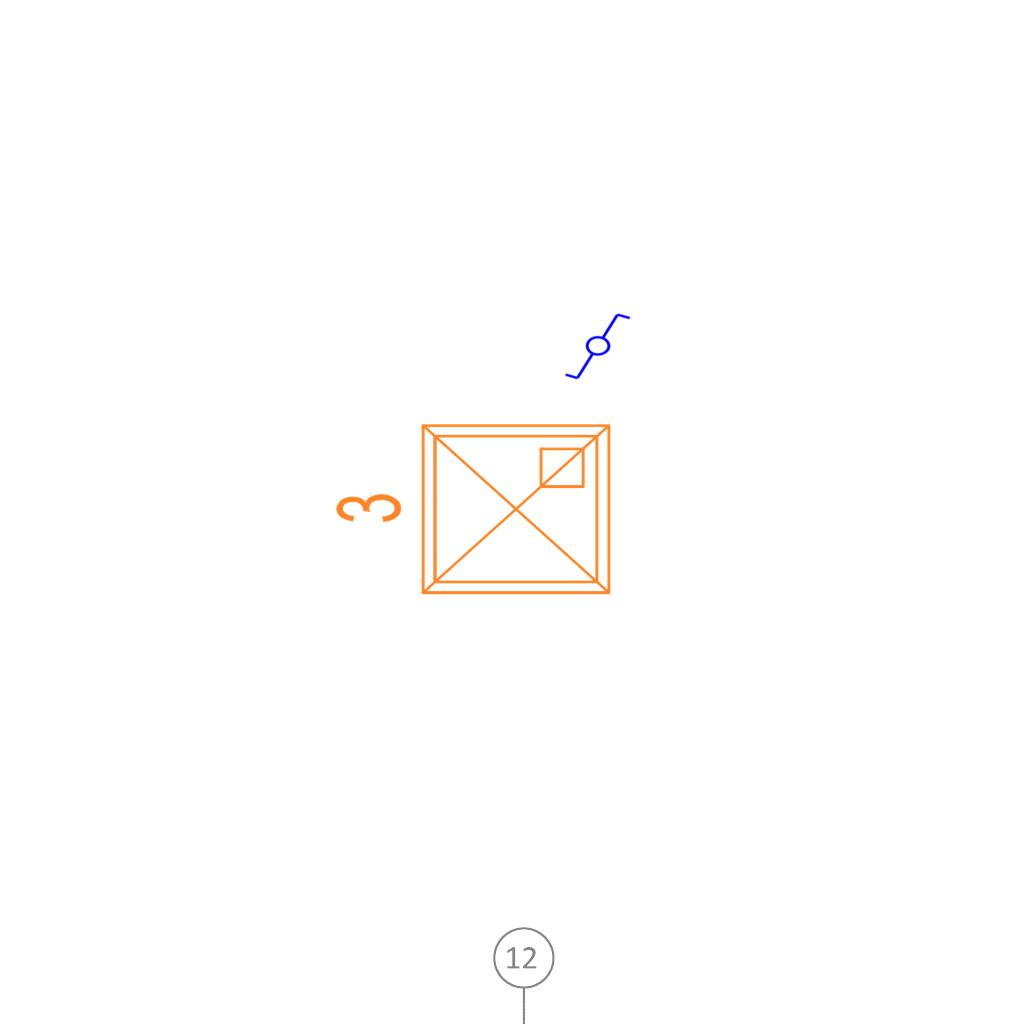Einbaudownlights_LED_Konferenzraeume: (325, 409, 625, 617)
Wechselschalter: (563, 311, 641, 383)
